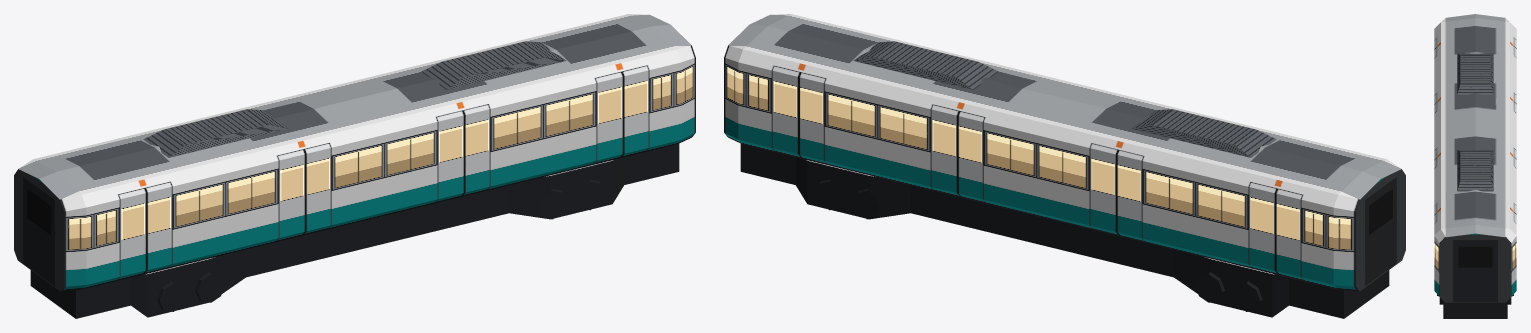
The model's file is steel_classic__neutral.glb.
The picture shows the model from 3 angles, left to right: view 1: azimuth 30°, elevation 25°; view 2: azimuth 150°, elevation 25°; view 3: azimuth 270°, elevation 25°; orthographic projection. The views are drawn at different scales.
Parts seen in each view (by area): view 1: steel_classic__neutral; view 2: steel_classic__neutral; view 3: steel_classic__neutral.
Part boxes in pixels (box(x1,y1,x2,y2)): steel_classic__neutral: box(14, 14, 695, 318); steel_classic__neutral: box(724, 14, 1405, 318); steel_classic__neutral: box(1434, 14, 1516, 318).
Bounding box in the file's own units: 15.49 × 3.49 × 2.46.
Materials: 1 (1 with a texture image).
